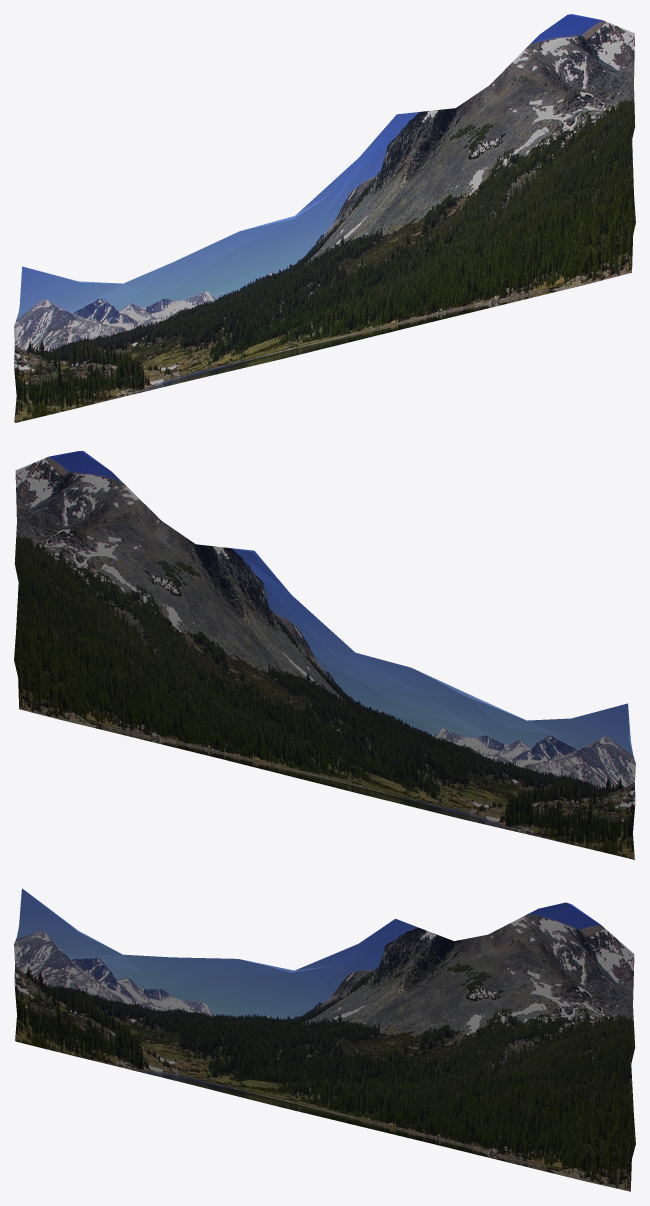
Rendered from mountains_low.obj.
The picture shows the model from 3 angles, top to bottom: view 1: azimuth 30°, elevation 25°; view 2: azimuth 150°, elevation 25°; view 3: azimuth 330°, elevation 25°; orthographic projection.
Parts seen in each view (by area): view 1: Grid.003; view 2: Grid.003; view 3: Grid.003.
Part boxes in pixels (x1=…): Grid.003: x1=14, y1=14, x2=635, y2=422; Grid.003: x1=14, y1=451, x2=635, y2=859; Grid.003: x1=14, y1=888, x2=635, y2=1191.
Bounding box in the file's own units: 9.55 × 4.03 × 0.0619.
